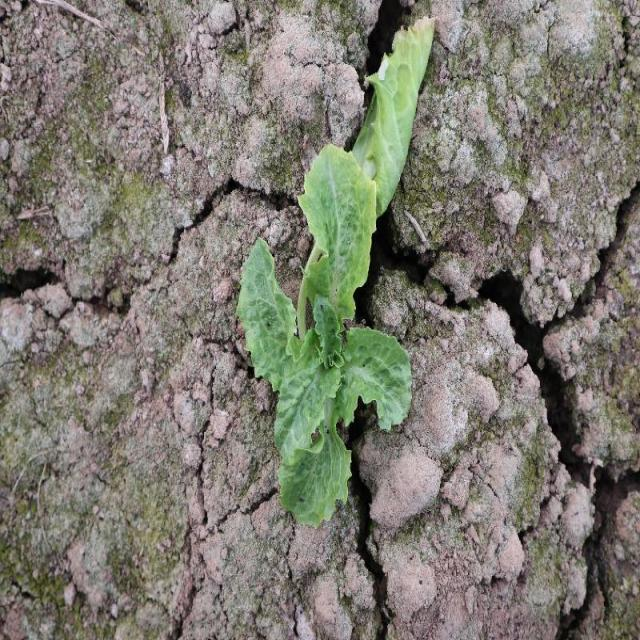crop: (238, 16, 437, 531)
